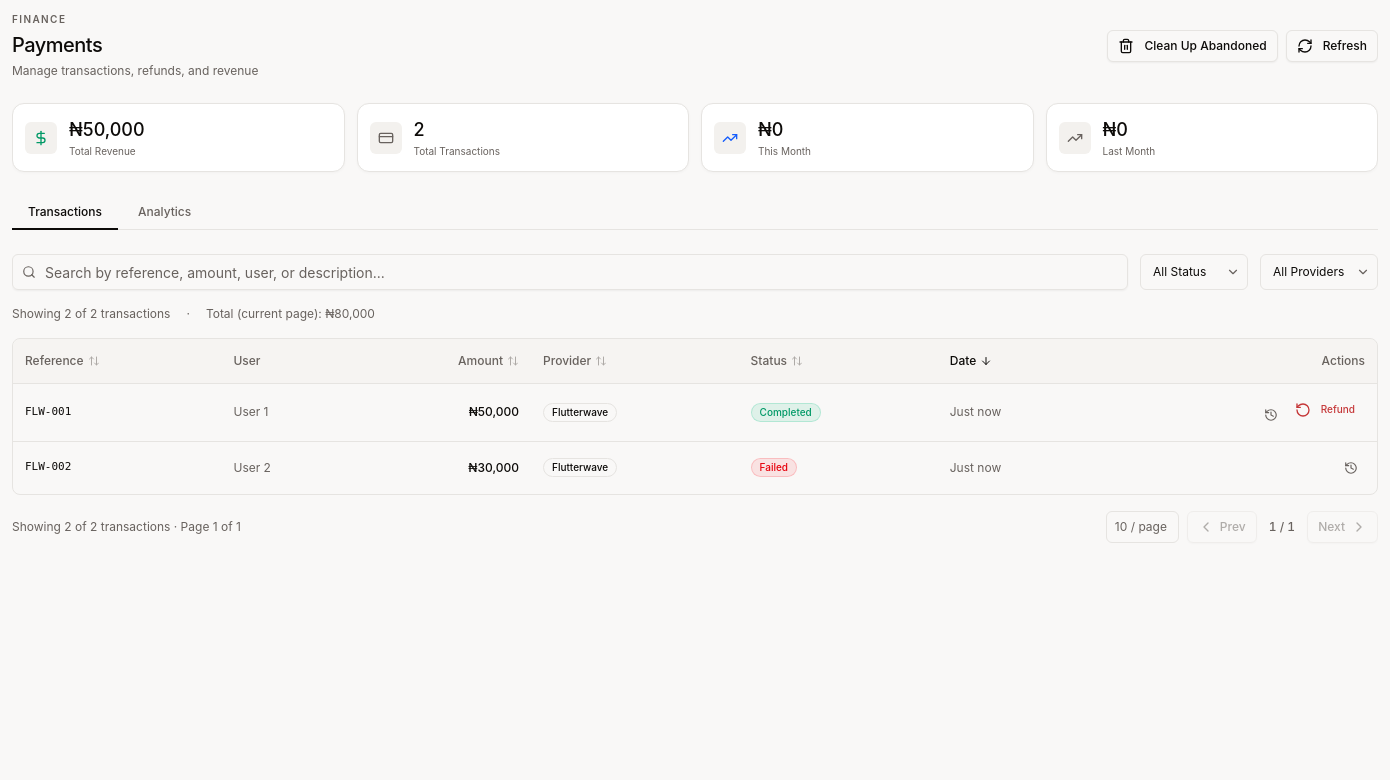
AdminPayments Page › Transactions Tab › filters by status
This screenshot has width=1390, height=780.
Select "Completed" in the 1st dropdown showing "All Status": (1194, 272) [1140,254,1248,290]
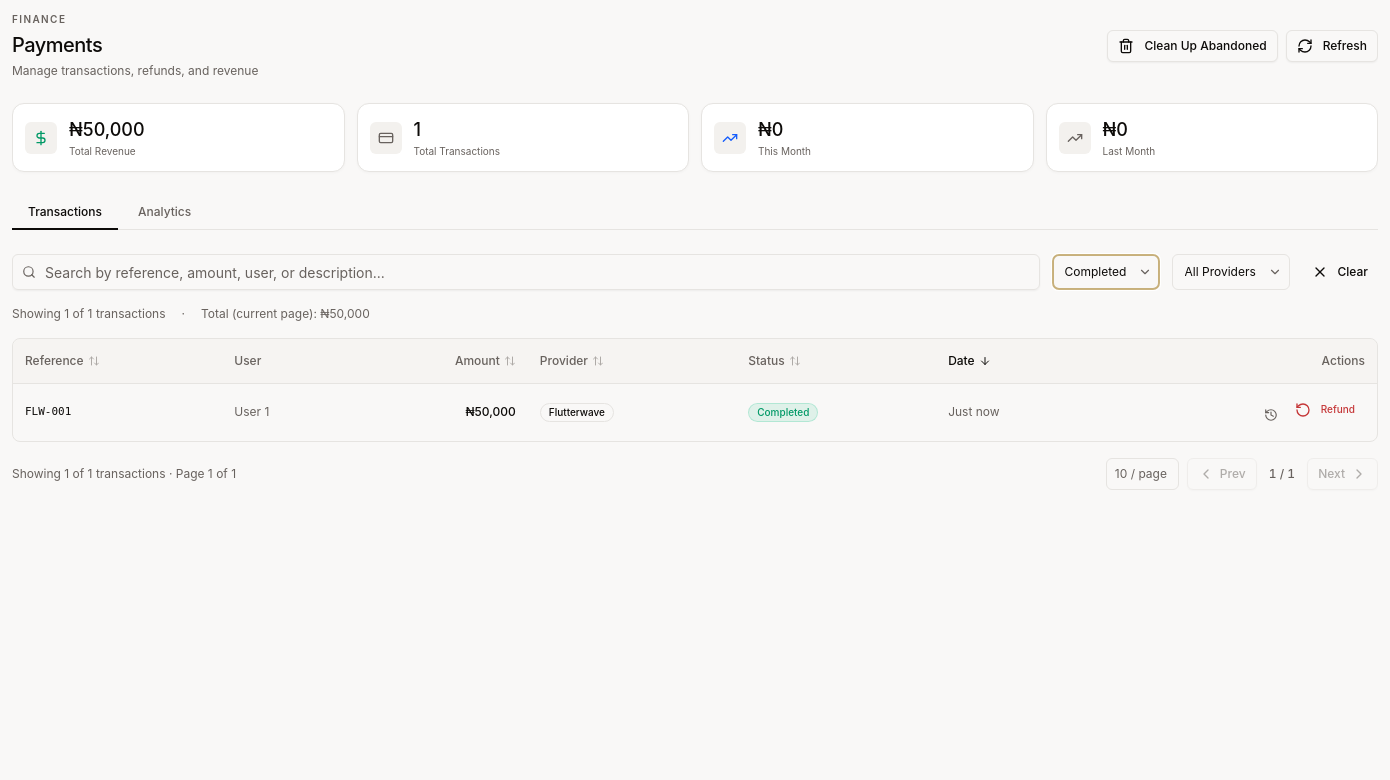
Expected: the text "FLW-001" is shown, [25,405,71,418]
Result: the text "FLW-002" is gone
